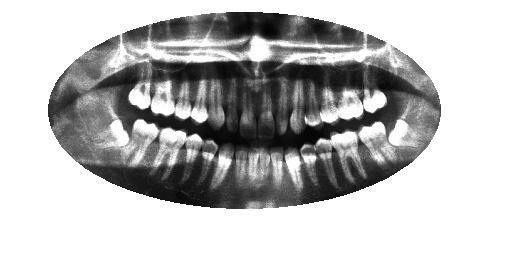Impacted Tooth: (96, 117, 129, 152), (388, 118, 422, 150)
